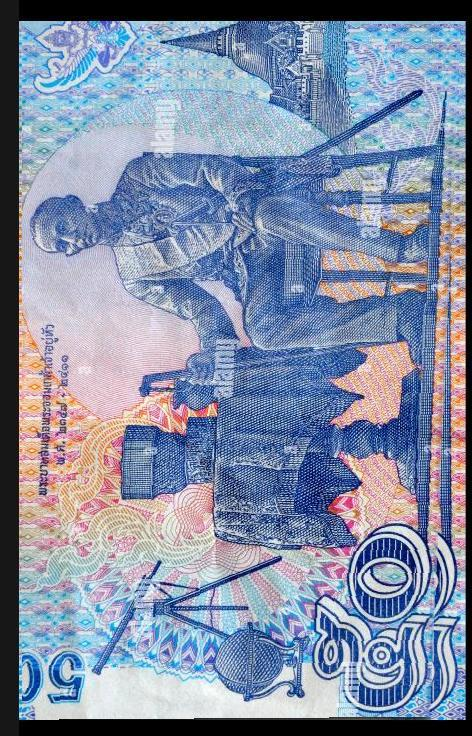50BahtTai: (23, 24, 462, 723)
